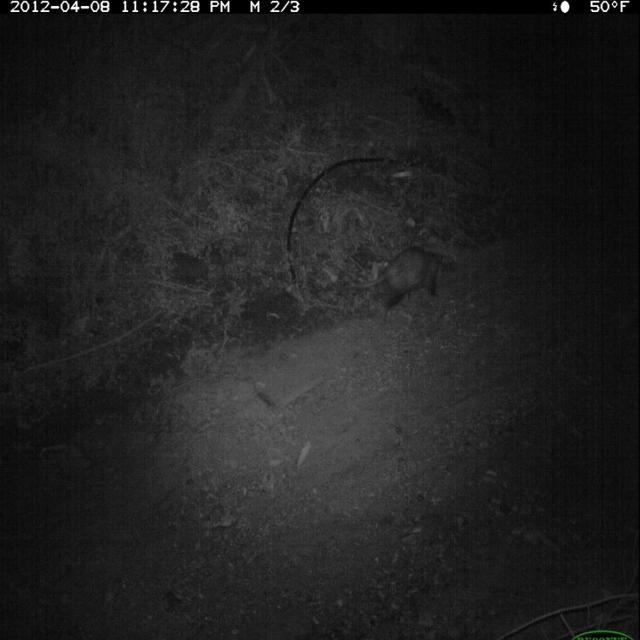opossum: (346, 243, 464, 329)
